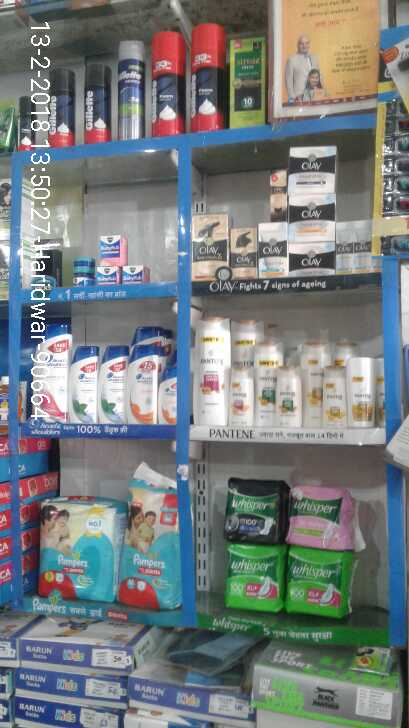gillete: (150, 33, 185, 136), (191, 24, 224, 131), (117, 37, 145, 142), (83, 65, 110, 145), (49, 69, 74, 144), (19, 94, 34, 148)
